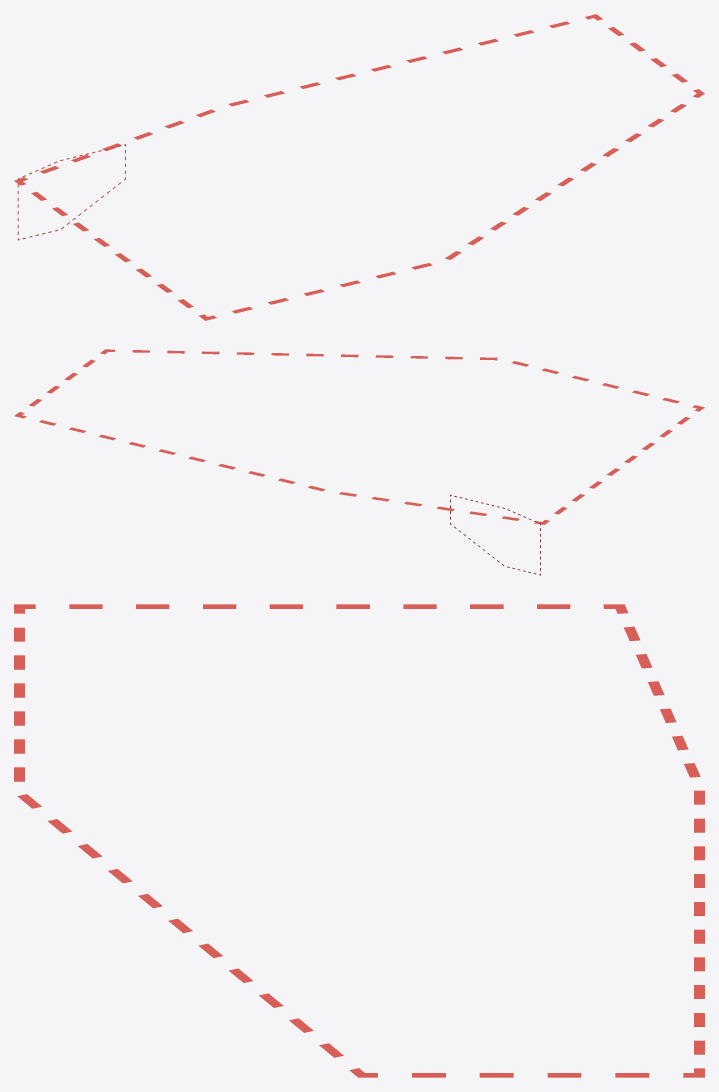
3 renders of one model, top to bottom at view 1: azimuth 30°, elevation 25°; view 2: azimuth 150°, elevation 25°; view 3: azimuth 270°, elevation 25°, orthographic. The views are drawn at different scales.
Visible parts, largest first — view 1: コレクション 2; view 2: コレクション 2; view 3: コレクション 2.
Part boxes in pixels (bbox=[...]): コレクション 2: bbox=[14, 14, 704, 320]; コレクション 2: bbox=[14, 349, 704, 524]; コレクション 2: bbox=[14, 604, 704, 1077].
Size of the model in its own units: 0.9212 by 0.1015 by 0.5684.
